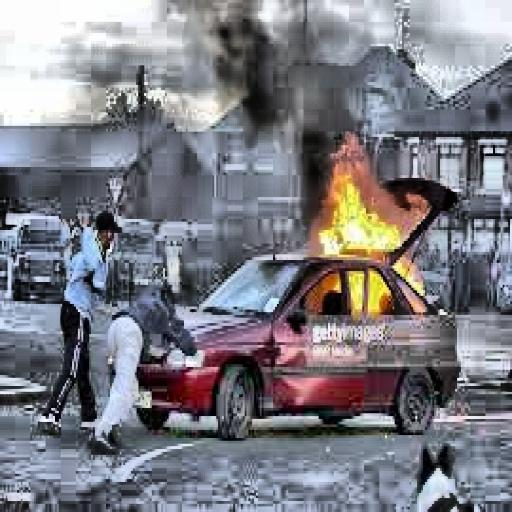fire: (305, 140, 438, 315)
